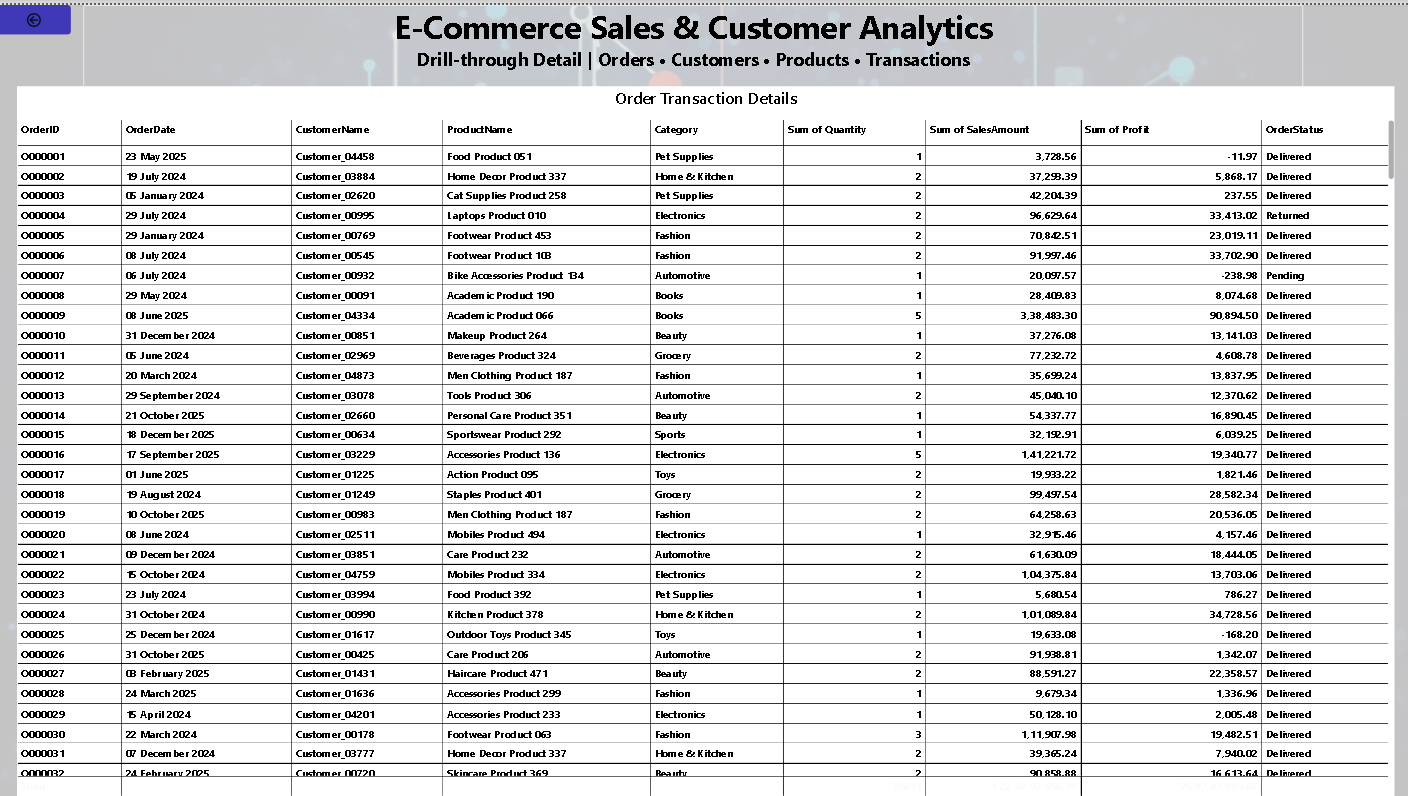

The dashboard page shown, as its layout file describes it:
{"tool":"powerbi","page":{"name":"Drill-through Detail","canvas":[1920,1080],"ordinal":5},"visuals":[{"type":"textbox","box":[116.9,0,1653.1,130.2],"z":0},{"type":"actionButton","box":[0,0,100,40],"z":1000},{"type":"tableEx","title":"Order Transaction Details","fields":{"Values":["FactSales.OrderID","FactSales.OrderDate","DimCustomer.CustomerName","DimProduct.ProductName","DimProduct.Category","Sum(FactSales.Quantity)","Sum(FactSales.SalesAmount)","Sum(FactSales.Profit)","FactSales.OrderStatus"]},"box":[27.1,110.1,1866.5,970.5],"z":2000},{"type":"actionButton","box":[0,0,100,40],"z":2001}]}

Visuals, with their boxes in screenshot pixels (x1, y1, x2, y2), scaled from the page's 1920x1080 canvas onto the 1408x796 screenshot:
textbox: {"left": 86, "top": 0, "right": 1298, "bottom": 96}
actionButton: {"left": 0, "top": 0, "right": 73, "bottom": 29}
"Order Transaction Details" tableEx: {"left": 20, "top": 81, "right": 1389, "bottom": 795}
actionButton: {"left": 0, "top": 0, "right": 73, "bottom": 29}
